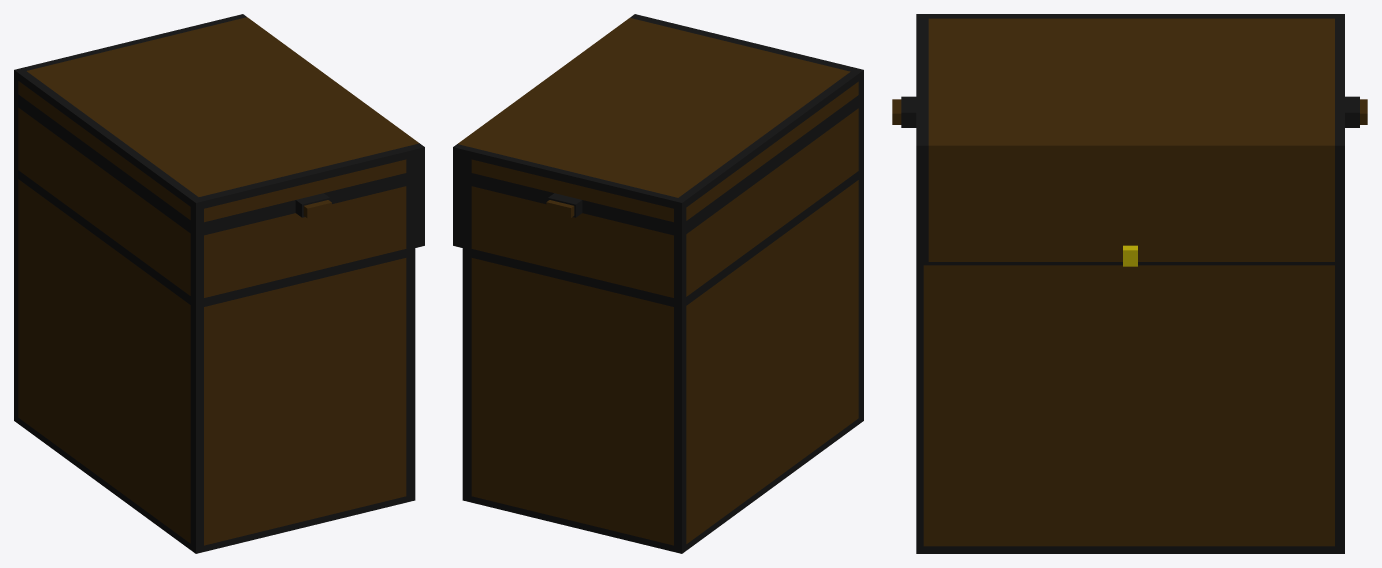
File: bag 2.fbx
3 views of the same model, side by side, from view 1: azimuth 30°, elevation 25°; view 2: azimuth 150°, elevation 25°; view 3: azimuth 270°, elevation 25° (orthographic). The views are drawn at different scales.
Visible parts, largest first — view 1: Cube; view 2: Cube; view 3: Cube.
Boxes of the visible parts, left/top/right/bottom form: Cube: left=14, top=14, right=424, bottom=553; Cube: left=453, top=14, right=863, bottom=553; Cube: left=892, top=14, right=1367, bottom=553.
Bounding box in the file's own units: 0.1504 × 0.2129 × 0.2217.
